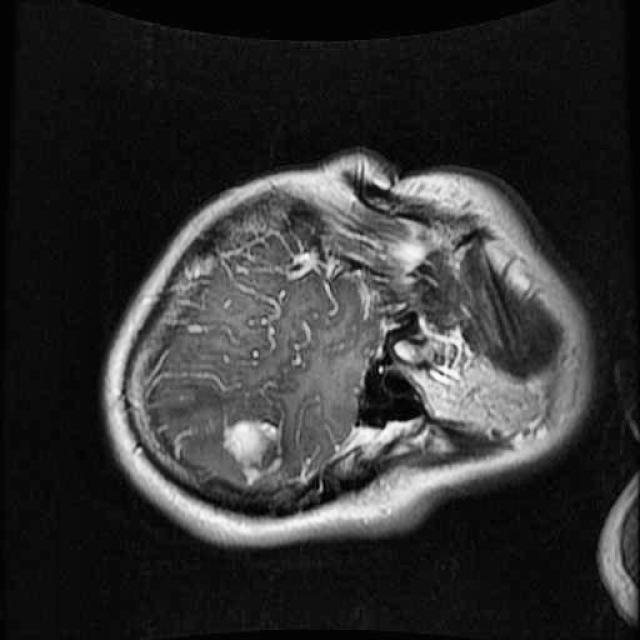Tumor: (205, 400, 297, 506)
